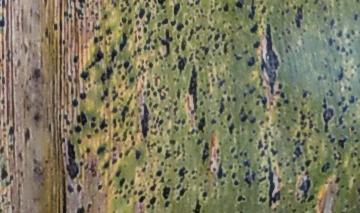tarspot: (64, 138, 81, 183), (187, 64, 199, 116), (82, 47, 109, 67), (291, 1, 307, 31), (57, 174, 69, 212), (297, 176, 312, 204), (99, 67, 116, 83), (332, 66, 347, 84), (117, 30, 129, 52), (197, 112, 208, 135), (175, 184, 191, 199), (158, 184, 172, 200), (216, 158, 225, 182), (22, 124, 32, 145), (170, 1, 183, 17), (191, 198, 204, 213), (178, 164, 188, 183), (232, 194, 250, 204), (5, 46, 14, 65), (78, 69, 92, 81), (109, 47, 118, 65), (320, 161, 332, 174), (300, 87, 312, 100), (225, 122, 236, 136), (90, 34, 104, 45), (1, 163, 8, 184), (75, 9, 87, 21), (32, 111, 44, 123), (64, 72, 75, 85), (100, 158, 111, 171), (7, 124, 17, 138), (32, 66, 42, 80), (66, 179, 76, 193), (62, 113, 72, 127), (100, 87, 110, 101), (70, 52, 81, 64), (96, 144, 107, 156), (63, 10, 75, 21), (162, 197, 173, 209), (75, 91, 88, 101), (41, 26, 51, 39), (45, 121, 54, 135), (74, 204, 88, 213), (50, 21, 61, 32), (72, 123, 83, 134), (332, 174, 343, 185), (133, 148, 143, 160), (110, 115, 118, 130), (346, 95, 358, 105), (70, 96, 79, 109), (95, 182, 105, 193), (128, 74, 138, 85), (256, 195, 267, 205), (91, 23, 104, 31), (117, 177, 125, 190), (84, 144, 94, 154), (89, 112, 99, 122), (147, 181, 157, 191), (168, 137, 178, 147), (308, 194, 318, 204), (110, 143, 119, 154), (104, 26, 113, 37), (100, 11, 111, 20), (122, 59, 131, 70), (119, 72, 128, 83), (350, 160, 359, 171), (304, 157, 313, 168), (312, 72, 321, 83), (40, 1, 52, 9), (8, 137, 15, 150), (107, 176, 114, 189), (7, 173, 16, 183), (60, 37, 70, 46), (200, 191, 210, 200), (228, 144, 237, 154), (154, 168, 164, 177), (137, 195, 146, 205), (102, 100, 112, 109), (195, 136, 204, 146), (9, 201, 17, 212), (346, 83, 353, 95), (1, 16, 7, 29), (1, 143, 7, 155), (1, 1, 9, 10), (172, 164, 178, 176), (86, 132, 93, 142), (129, 177, 136, 187), (304, 167, 311, 177), (1, 73, 7, 84), (76, 1, 87, 7), (116, 68, 124, 76), (80, 158, 86, 168), (122, 191, 128, 201), (173, 182, 182, 188), (2, 120, 8, 127), (89, 122, 96, 128)
